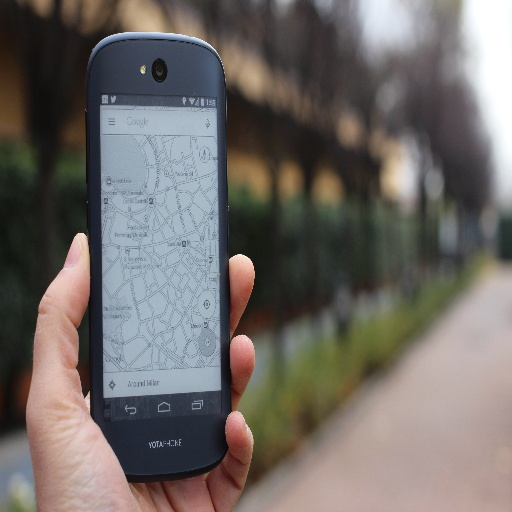hand: (25, 231, 255, 511)
